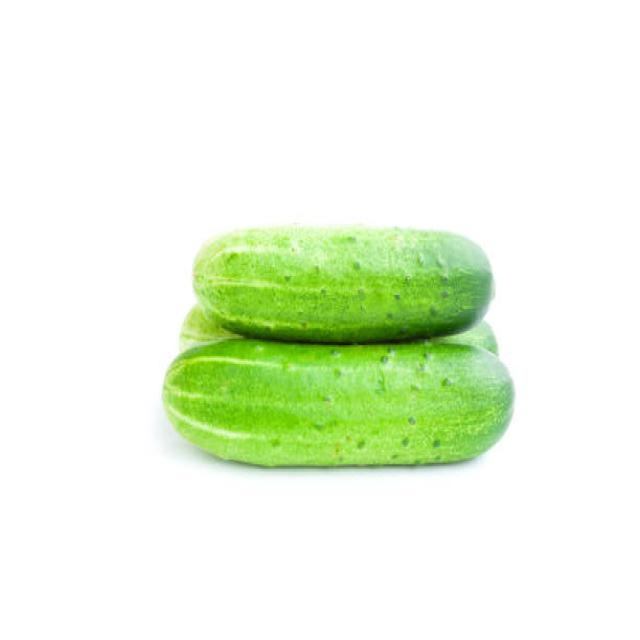cucumber: (160, 330, 515, 466), (192, 224, 496, 344)
